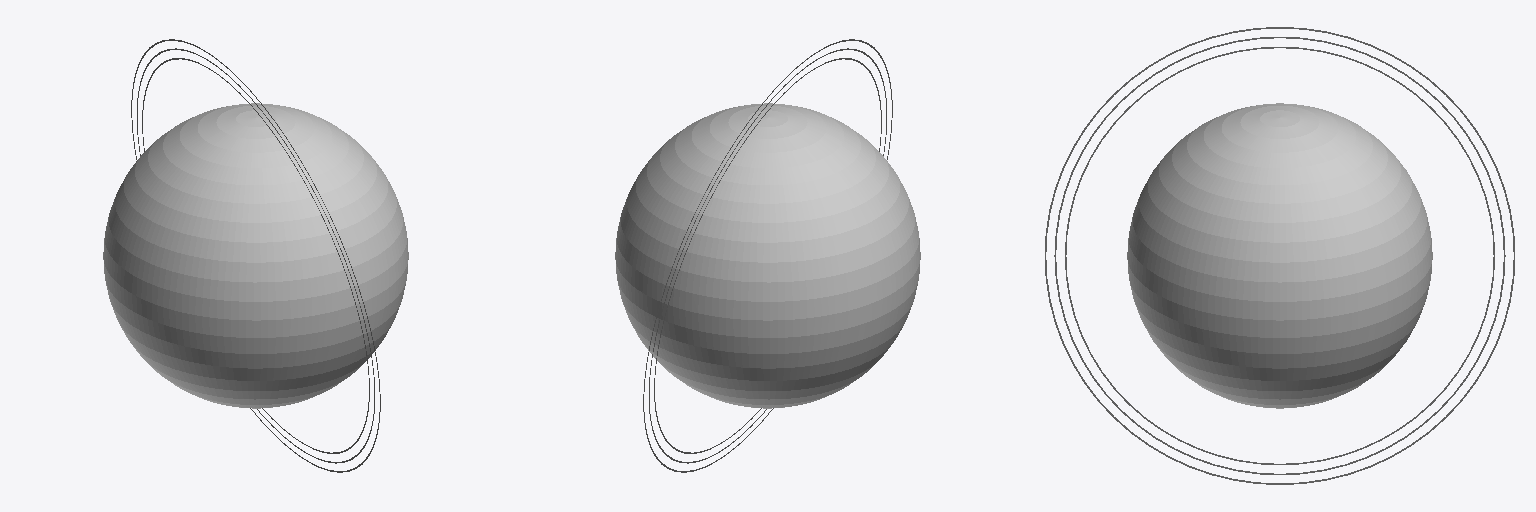
The model's file is Uranus.obj.
3 views of the same model, side by side, from view 1: azimuth 30°, elevation 25°; view 2: azimuth 150°, elevation 25°; view 3: azimuth 270°, elevation 25° (orthographic).
Parts seen in each view (by area): view 1: Sphere_Material.002_0.008, Circle_ring_0.001, Circle.001_ring_0, Circle.002_ring_0; view 2: Sphere_Material.002_0.008, Circle_ring_0.001, Circle.001_ring_0, Circle.002_ring_0; view 3: Sphere_Material.002_0.008, Circle_ring_0.001, Circle.001_ring_0, Circle.002_ring_0.
Boxes of the visible parts, x1,y1,x2,y2 form: Sphere_Material.002_0.008: [103, 103, 408, 408]; Circle_ring_0.001: [131, 39, 380, 472]; Circle.001_ring_0: [137, 48, 374, 463]; Circle.002_ring_0: [142, 58, 369, 453]; Sphere_Material.002_0.008: [615, 103, 920, 408]; Circle_ring_0.001: [643, 39, 892, 472]; Circle.001_ring_0: [649, 48, 886, 463]; Circle.002_ring_0: [654, 58, 881, 453]; Sphere_Material.002_0.008: [1127, 103, 1432, 408]; Circle_ring_0.001: [1045, 27, 1514, 484]; Circle.001_ring_0: [1054, 37, 1505, 474]; Circle.002_ring_0: [1065, 47, 1494, 464].
Size of the model in its own units: 31.52 by 47.6 by 48.61.